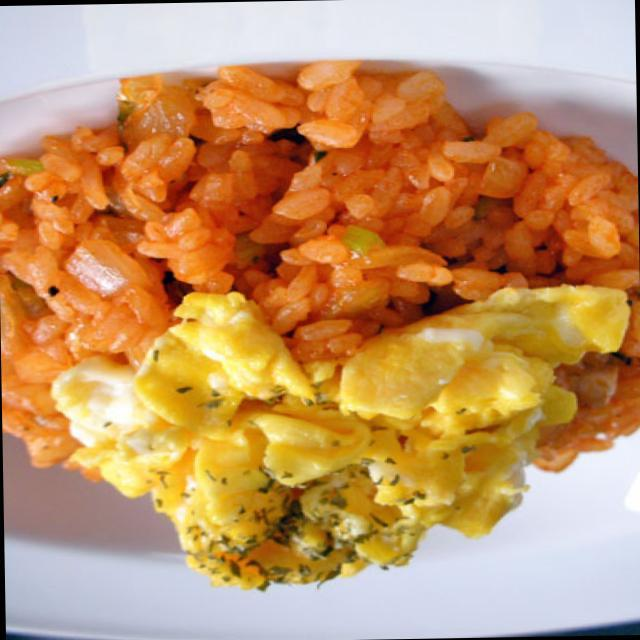Rice: (0, 44, 640, 368)
